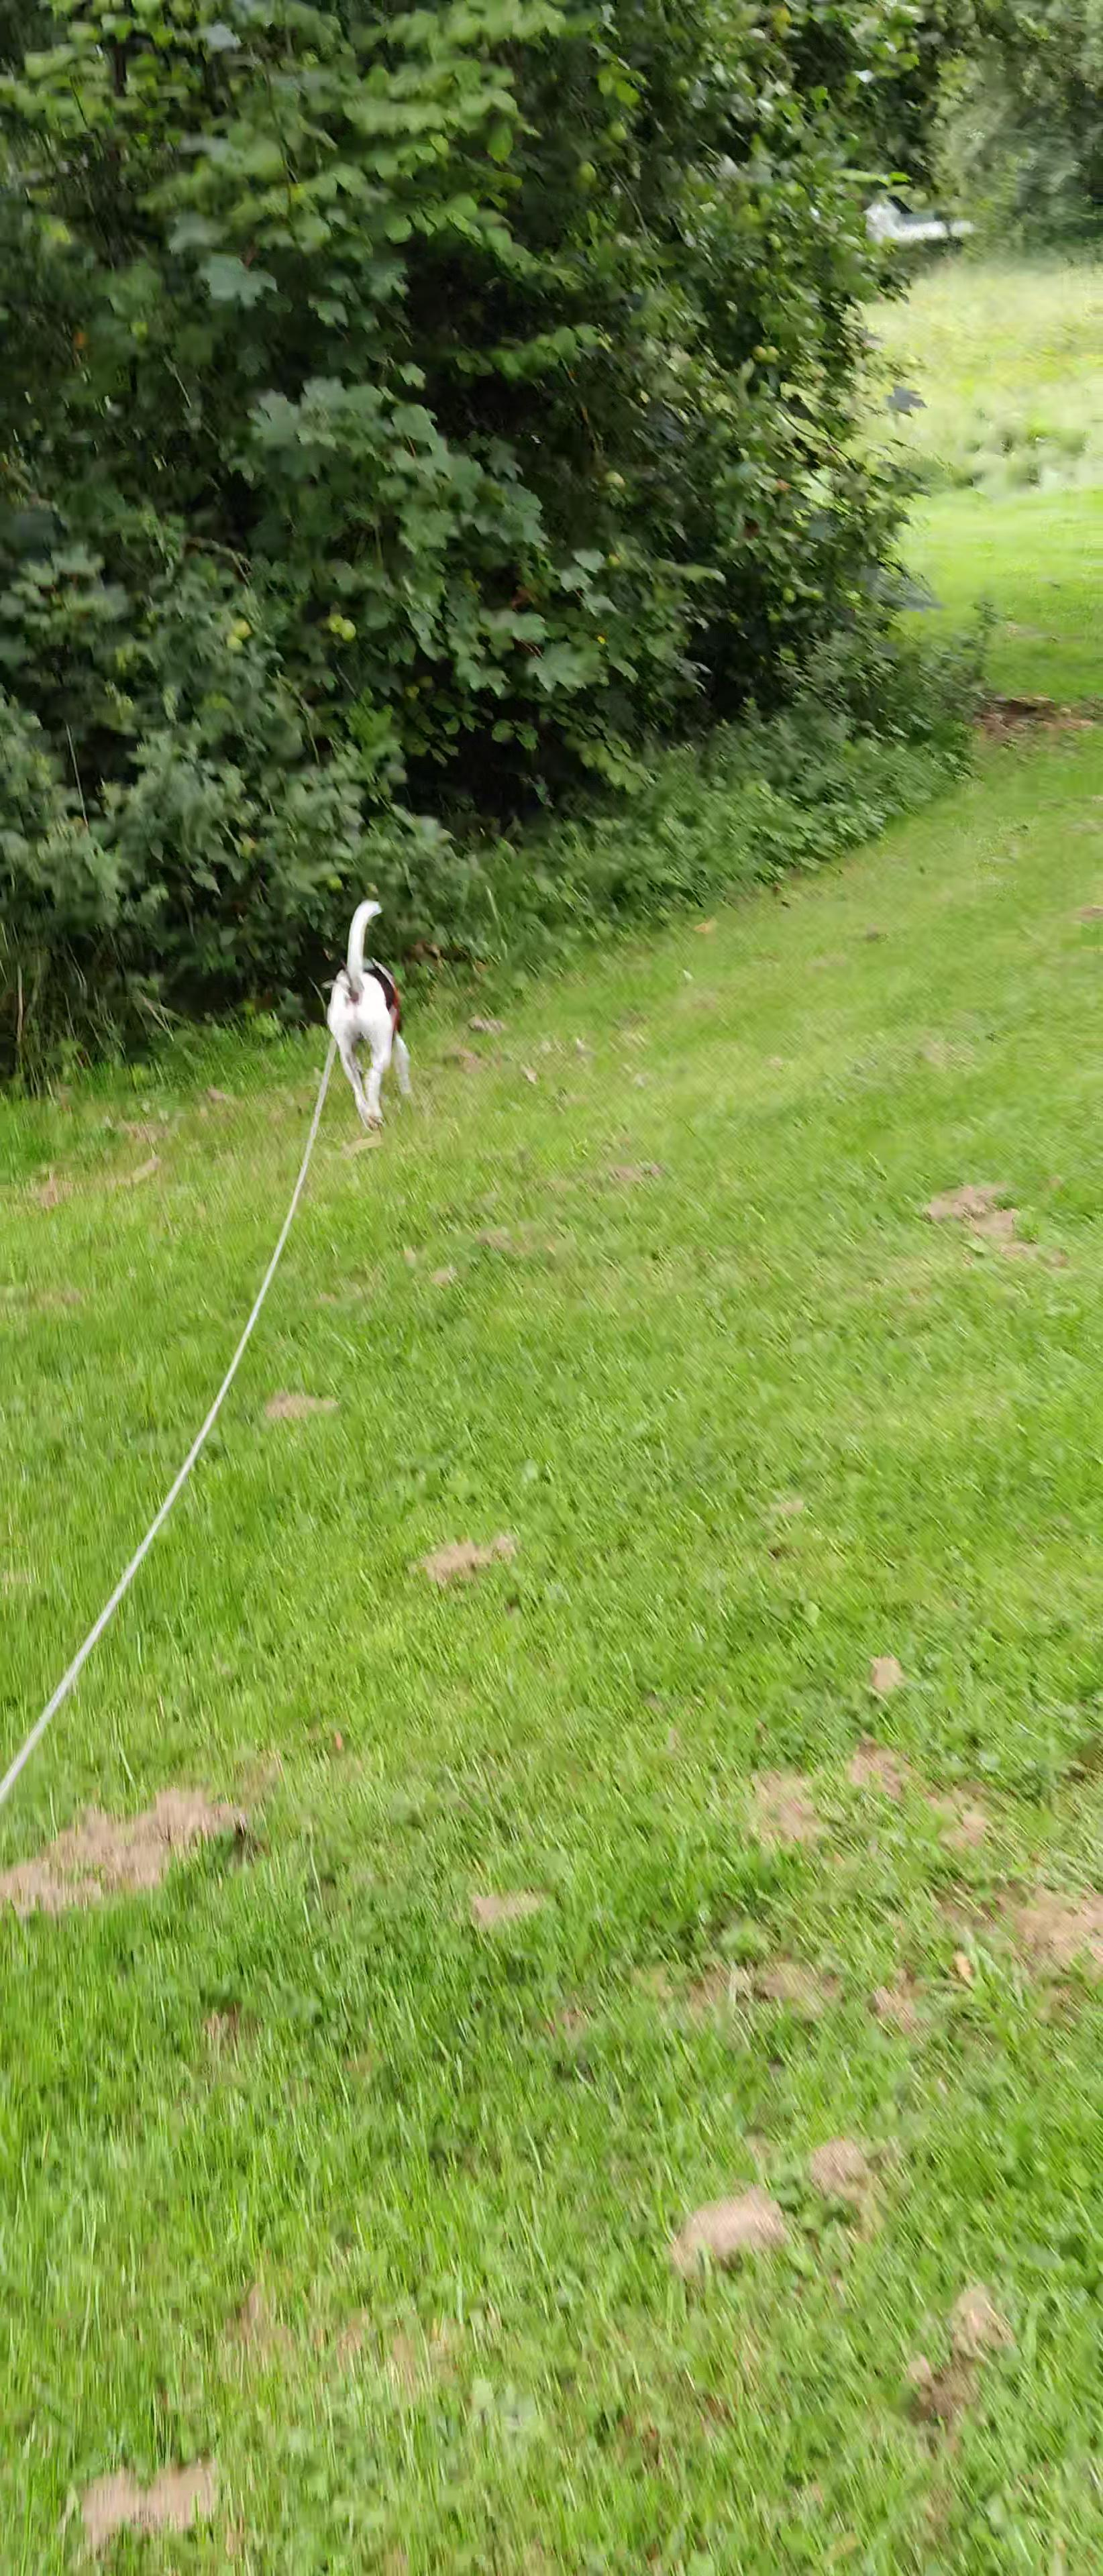Dog: (322, 892, 416, 1134)
